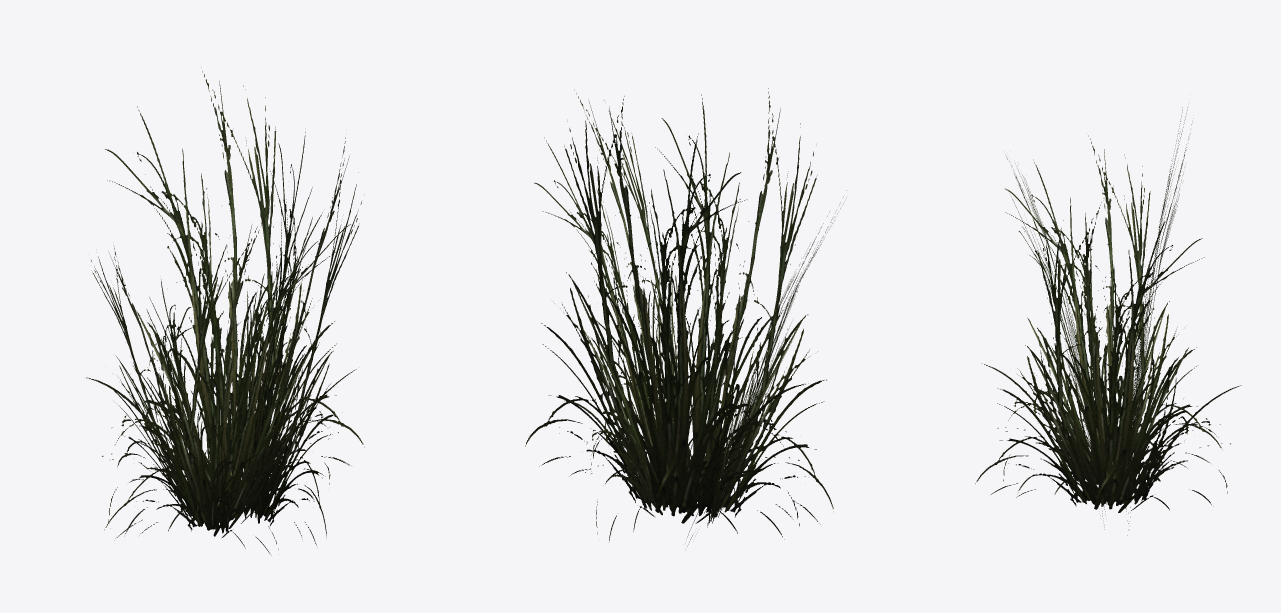
The model's file is grass_2.fbx.
The picture shows the model from 3 angles, left to right: view 1: azimuth 30°, elevation 25°; view 2: azimuth 150°, elevation 25°; view 3: azimuth 270°, elevation 25°; orthographic projection. The views are drawn at different scales.
Visible parts, largest first — view 1: grass_2; view 2: grass_2; view 3: grass_2.
Boxes of the visible parts, bbox=[...] form: grass_2: bbox=[86, 71, 364, 555]; grass_2: bbox=[525, 88, 843, 546]; grass_2: bbox=[975, 107, 1241, 535].
Size of the model in its own units: 0.7557 by 0.6727 by 1.
